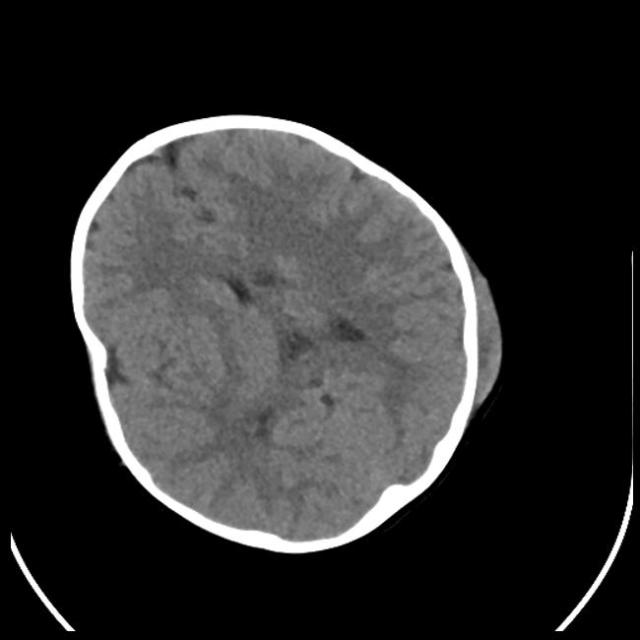lesion: (67, 111, 504, 554)
